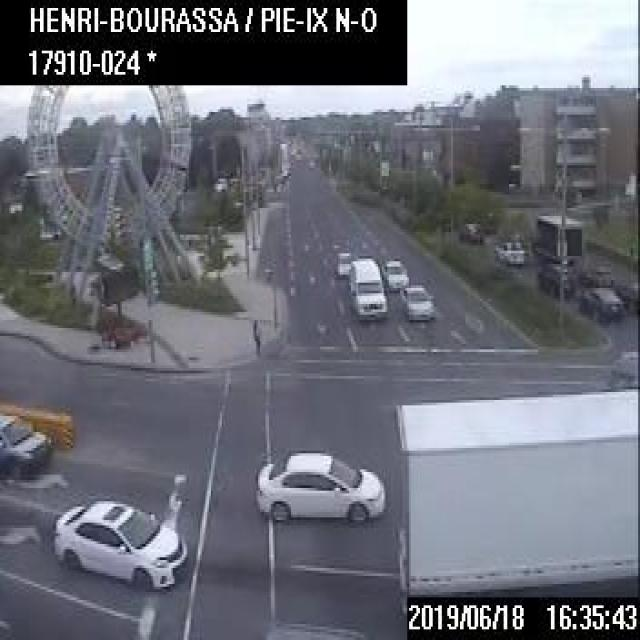pedestrian: (249, 314, 262, 354)
vehicle: (392, 387, 638, 610), (49, 499, 186, 589), (252, 445, 384, 520), (0, 413, 51, 478), (529, 212, 580, 259), (347, 256, 385, 316), (578, 285, 624, 320), (535, 260, 573, 296), (400, 283, 435, 320), (379, 256, 408, 288), (491, 240, 525, 264), (335, 249, 351, 274), (462, 219, 480, 240)
